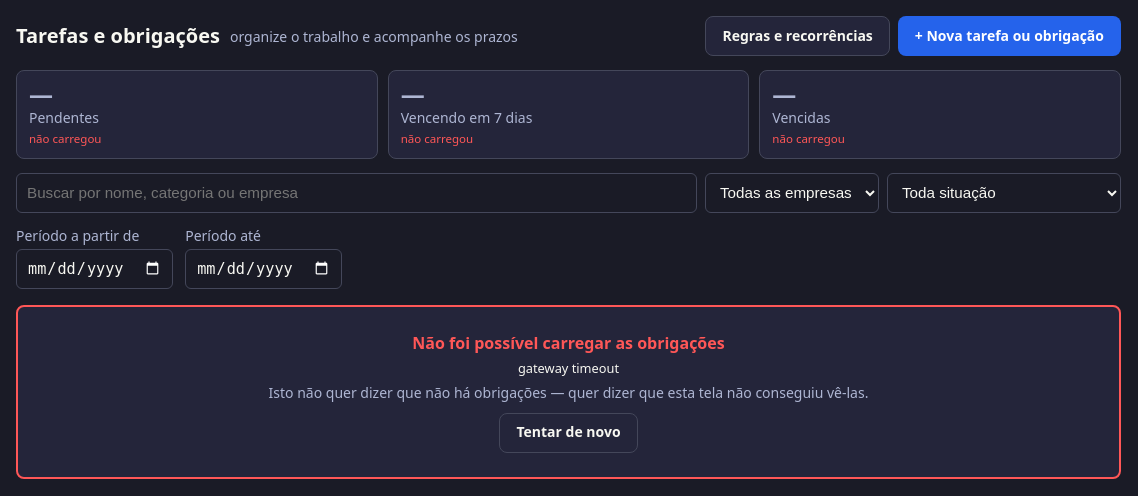
Test: ObrigacoesPage — a carga que falha não vira 'está tudo em dia' › 'Tentar de novo' recarrega — e o sucesso apaga a falha e devolve os números
The width and height of the screenshot is (1138, 496).
Expected: the text "Não foi possível carregar as obrigações" is shown, [412,332,725,354]
Step 1. Click the button "Tentar de novo" → (568, 433), box [499,413,638,453]
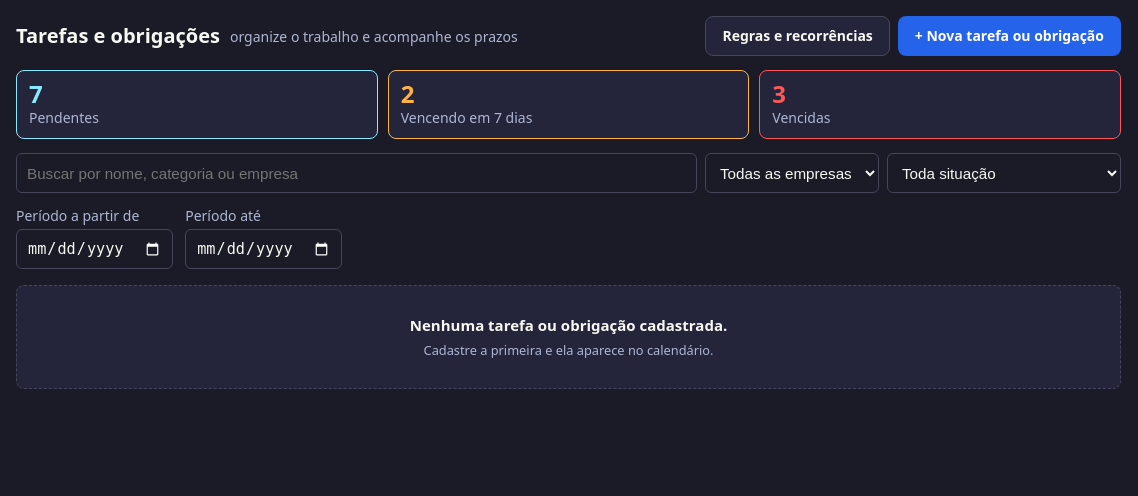
Expected: the text "7" is shown, [29,77,43,110]
Expected: the text "—" is gone
Expected: the text "não carregou" is gone
